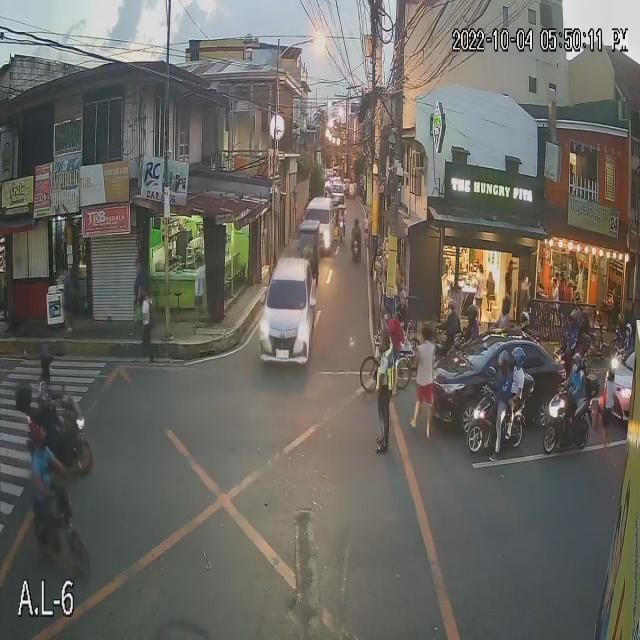helmet: (36, 341, 55, 384), (493, 350, 512, 371), (509, 347, 525, 367), (443, 300, 458, 319), (569, 354, 582, 375), (564, 309, 579, 327), (467, 305, 479, 323), (518, 312, 530, 328), (624, 323, 633, 339), (354, 217, 360, 228)
motorcycle: (16, 384, 94, 476), (466, 372, 528, 453), (541, 372, 601, 453), (432, 318, 482, 372), (596, 373, 625, 440), (609, 345, 636, 371), (349, 232, 363, 263)
rider: (34, 336, 59, 426), (490, 349, 510, 421), (508, 347, 530, 410), (566, 351, 585, 418), (562, 307, 584, 356), (462, 303, 485, 342), (440, 298, 456, 343), (516, 309, 530, 343), (622, 317, 633, 350), (350, 216, 362, 243)
